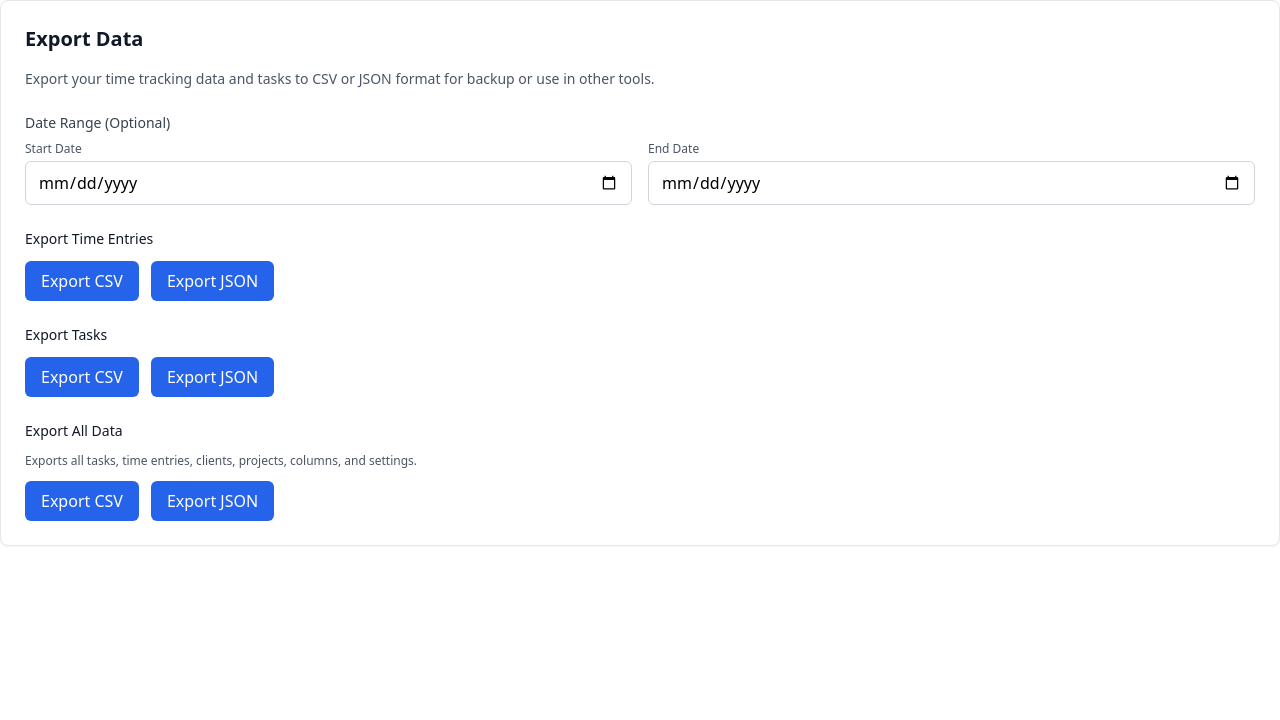
Test: ExportOptions › time entries export › shows success message after successful export
Click the button with aria-label "Export time entries as CSV".
click(82, 281)  # box [25, 261, 139, 301]
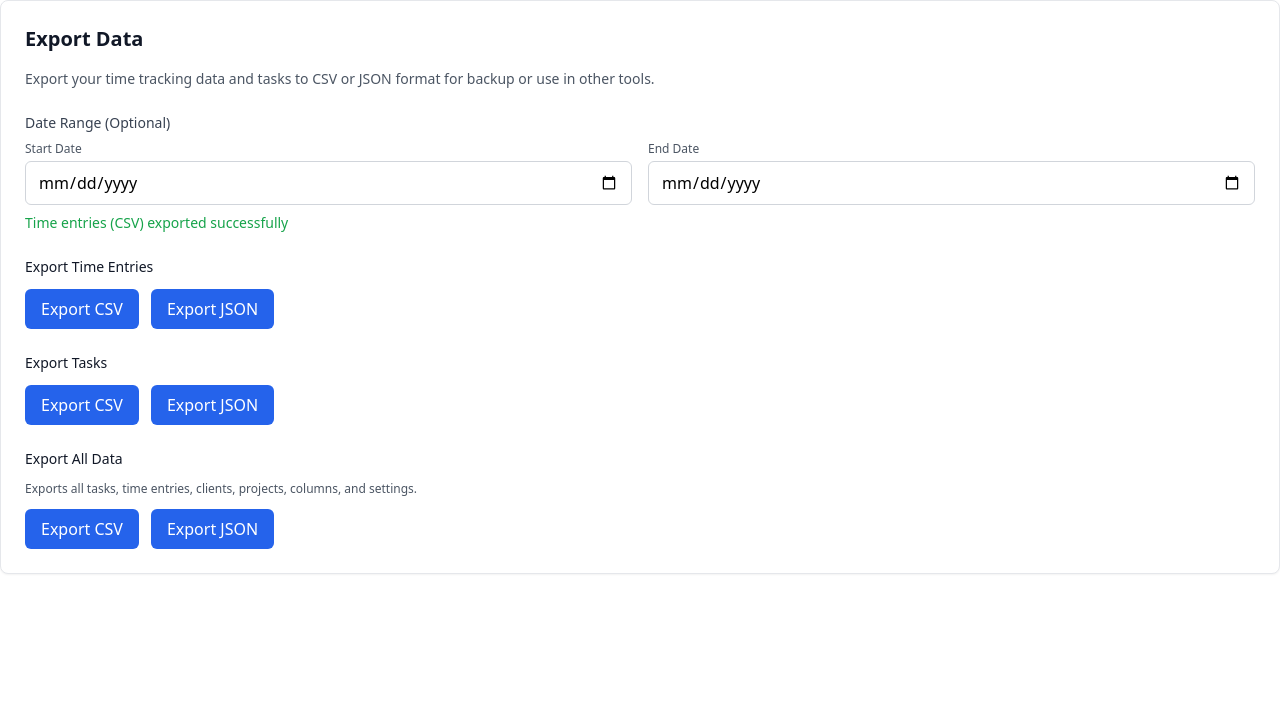
Now the text "Time entries (CSV) exported successfully" is shown, box [25, 213, 288, 232]
